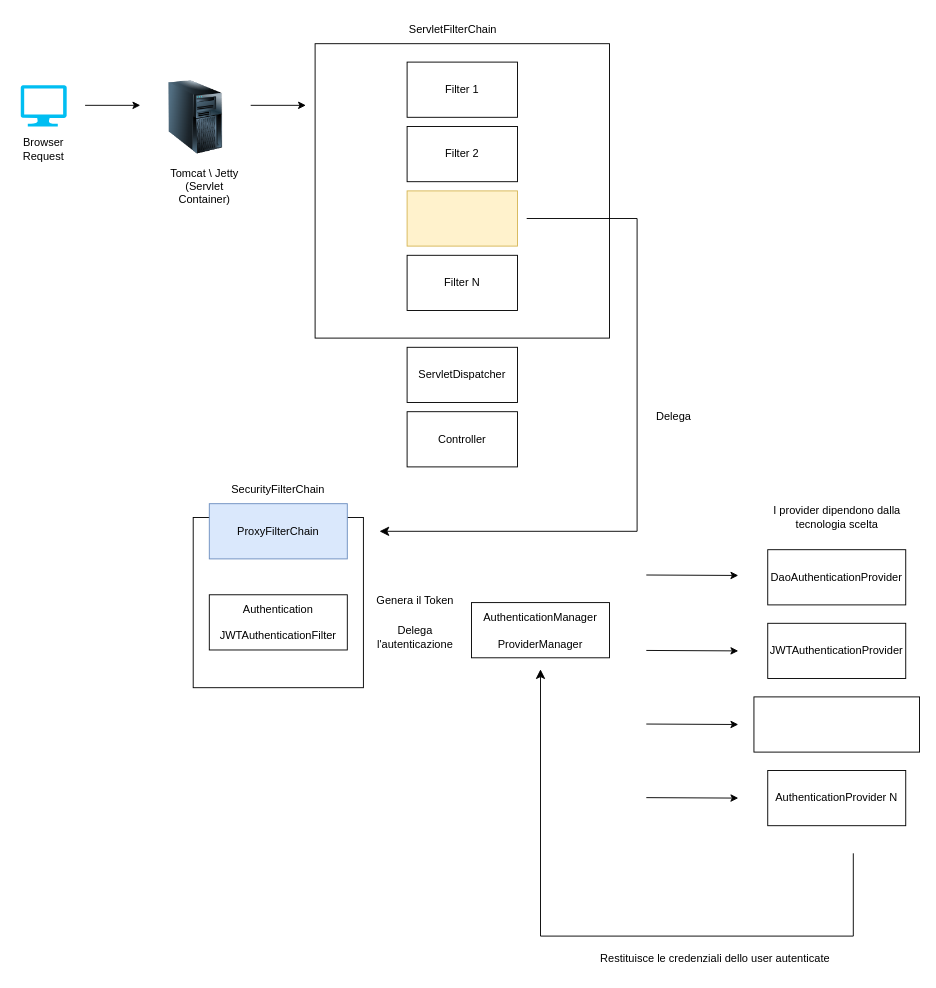
The diagram is 936 pixels wide and 988 high, and some of its shapes have lost their labels. Each missing label, with the centre of its shape:
Delegating FilterProxy: the point at 462,218
OAUTH2AuthenticationProvider: the point at 836,724
